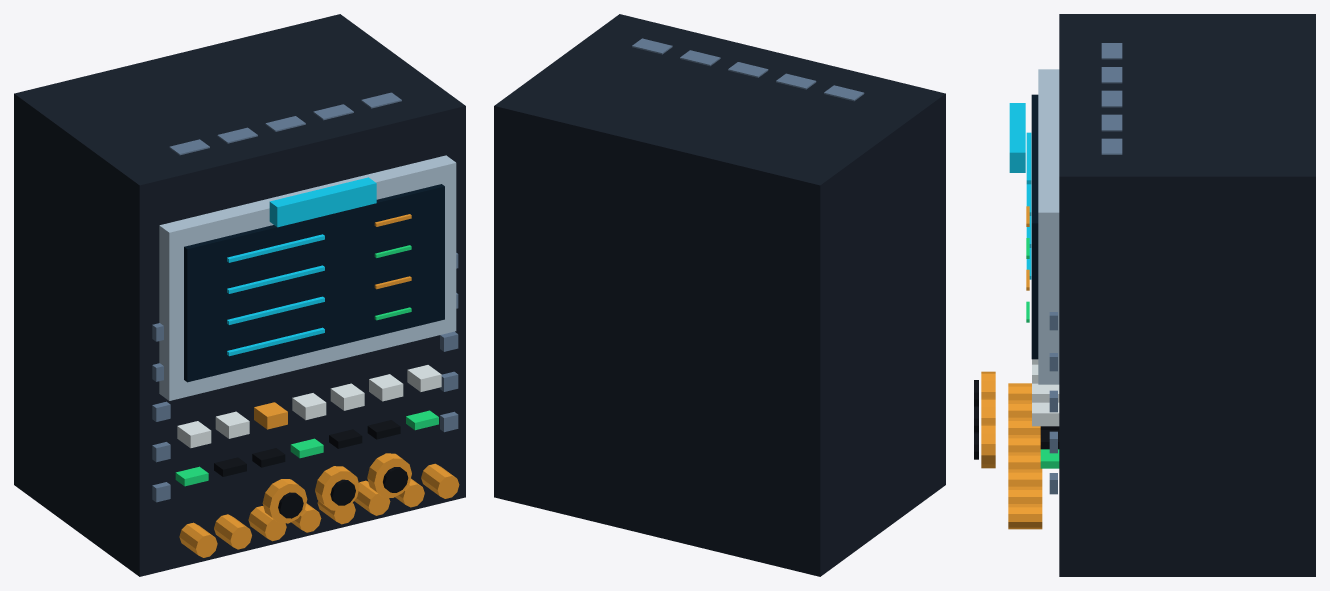
File: 66_L89_ShelterRadiationShieldQualityMonitor.fbx
3 renders of one model, left to right at view 1: azimuth 30°, elevation 25°; view 2: azimuth 150°, elevation 25°; view 3: azimuth 270°, elevation 25°, orthographic. The views are drawn at different scales.
Parts seen in each view (by area): view 1: L87_ShelterRadiationShieldQualityMonitor_Part_0000, L87_ShelterRadiationShieldQualityMonitor_Part_0002, L87_ShelterRadiationShieldQualityMonitor_Part_0001, L87_ShelterRadiationShieldQualityMonitor_Part_0004, L87_ShelterRadiationShieldQualityMonitor_Part_0008, L87_ShelterRadiationShieldQualityMonitor_Part_0006, L87_ShelterRadiationShieldQualityMonitor_Part_0009, L87_ShelterRadiationShieldQualityMonitor_Part_0003, L87_ShelterRadiationShieldQualityMonitor_Part_0007, L87_ShelterRadiationShieldQualityMonitor_Part_0005, L87_ShelterRadiationShieldQualityMonitor_Part_0010, L87_ShelterRadiationShieldQualityMonitor_Part_0012 (+1 smaller); view 2: L87_ShelterRadiationShieldQualityMonitor_Part_0000, L87_ShelterRadiationShieldQualityMonitor_Part_0008; view 3: L87_ShelterRadiationShieldQualityMonitor_Part_0000, L87_ShelterRadiationShieldQualityMonitor_Part_0001, L87_ShelterRadiationShieldQualityMonitor_Part_0004, L87_ShelterRadiationShieldQualityMonitor_Part_0008, L87_ShelterRadiationShieldQualityMonitor_Part_0002, L87_ShelterRadiationShieldQualityMonitor_Part_0006, L87_ShelterRadiationShieldQualityMonitor_Part_0009, L87_ShelterRadiationShieldQualityMonitor_Part_0003, L87_ShelterRadiationShieldQualityMonitor_Part_0014, L87_ShelterRadiationShieldQualityMonitor_Part_0005.
Part boxes in pixels (x1,y1,x2,y2): L87_ShelterRadiationShieldQualityMonitor_Part_0000: [14, 14, 465, 576]; L87_ShelterRadiationShieldQualityMonitor_Part_0002: [184, 184, 444, 382]; L87_ShelterRadiationShieldQualityMonitor_Part_0001: [159, 155, 456, 400]; L87_ShelterRadiationShieldQualityMonitor_Part_0004: [179, 214, 459, 557]; L87_ShelterRadiationShieldQualityMonitor_Part_0008: [152, 92, 458, 502]; L87_ShelterRadiationShieldQualityMonitor_Part_0006: [177, 365, 441, 448]; L87_ShelterRadiationShieldQualityMonitor_Part_0009: [269, 177, 376, 227]; L87_ShelterRadiationShieldQualityMonitor_Part_0003: [227, 234, 324, 356]; L87_ShelterRadiationShieldQualityMonitor_Part_0007: [214, 420, 400, 476]; L87_ShelterRadiationShieldQualityMonitor_Part_0005: [175, 245, 438, 486]; L87_ShelterRadiationShieldQualityMonitor_Part_0010: [262, 479, 307, 523]; L87_ShelterRadiationShieldQualityMonitor_Part_0012: [315, 466, 359, 510]; L87_ShelterRadiationShieldQualityMonitor_Part_0000: [494, 14, 945, 576]; L87_ShelterRadiationShieldQualityMonitor_Part_0008: [632, 38, 864, 101]; L87_ShelterRadiationShieldQualityMonitor_Part_0000: [1059, 14, 1315, 576]; L87_ShelterRadiationShieldQualityMonitor_Part_0001: [1038, 69, 1059, 384]; L87_ShelterRadiationShieldQualityMonitor_Part_0004: [1008, 206, 1042, 529]; L87_ShelterRadiationShieldQualityMonitor_Part_0008: [1049, 43, 1122, 494]; L87_ShelterRadiationShieldQualityMonitor_Part_0002: [1031, 94, 1038, 359]; L87_ShelterRadiationShieldQualityMonitor_Part_0006: [1032, 359, 1059, 426]; L87_ShelterRadiationShieldQualityMonitor_Part_0009: [1009, 103, 1025, 172]; L87_ShelterRadiationShieldQualityMonitor_Part_0003: [1026, 132, 1031, 279]; L87_ShelterRadiationShieldQualityMonitor_Part_0014: [981, 423, 995, 468]; L87_ShelterRadiationShieldQualityMonitor_Part_0005: [1026, 238, 1059, 468].
Bounding box in the file's own units: 112 × 129 × 99.6.
